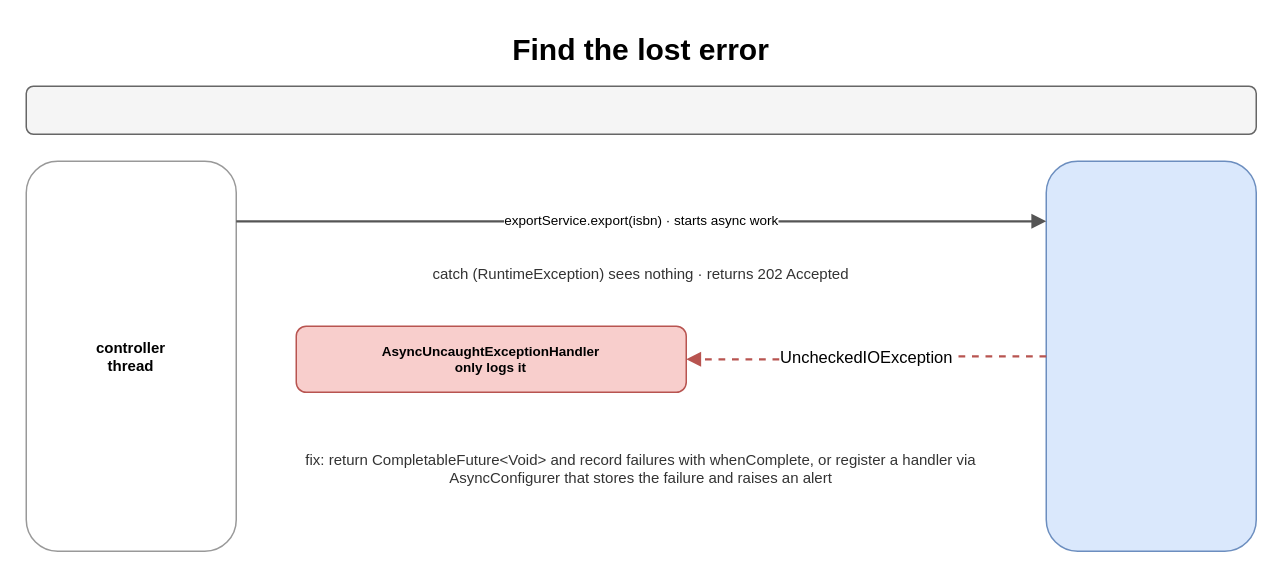
The diagram is 1283 pixels wide and 578 high, and some of its shapes have lost their labels. The centre of each missing label's shape, as x and y in pixels:
"async thread" belongs at pixel 1150 355.
"The @Async method fails after the controller has returned" belongs at pixel 640 109.
